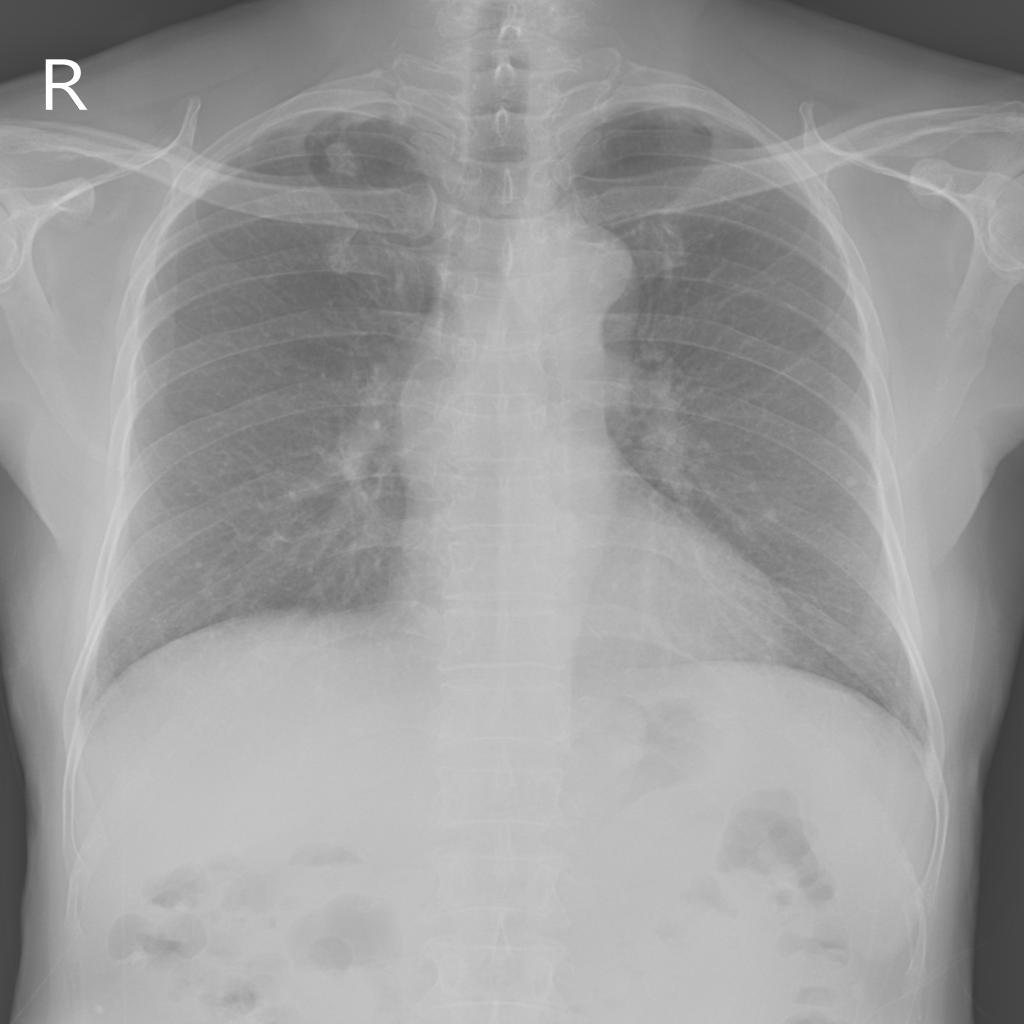Nodule: (329, 143, 359, 178), (846, 477, 860, 489)
